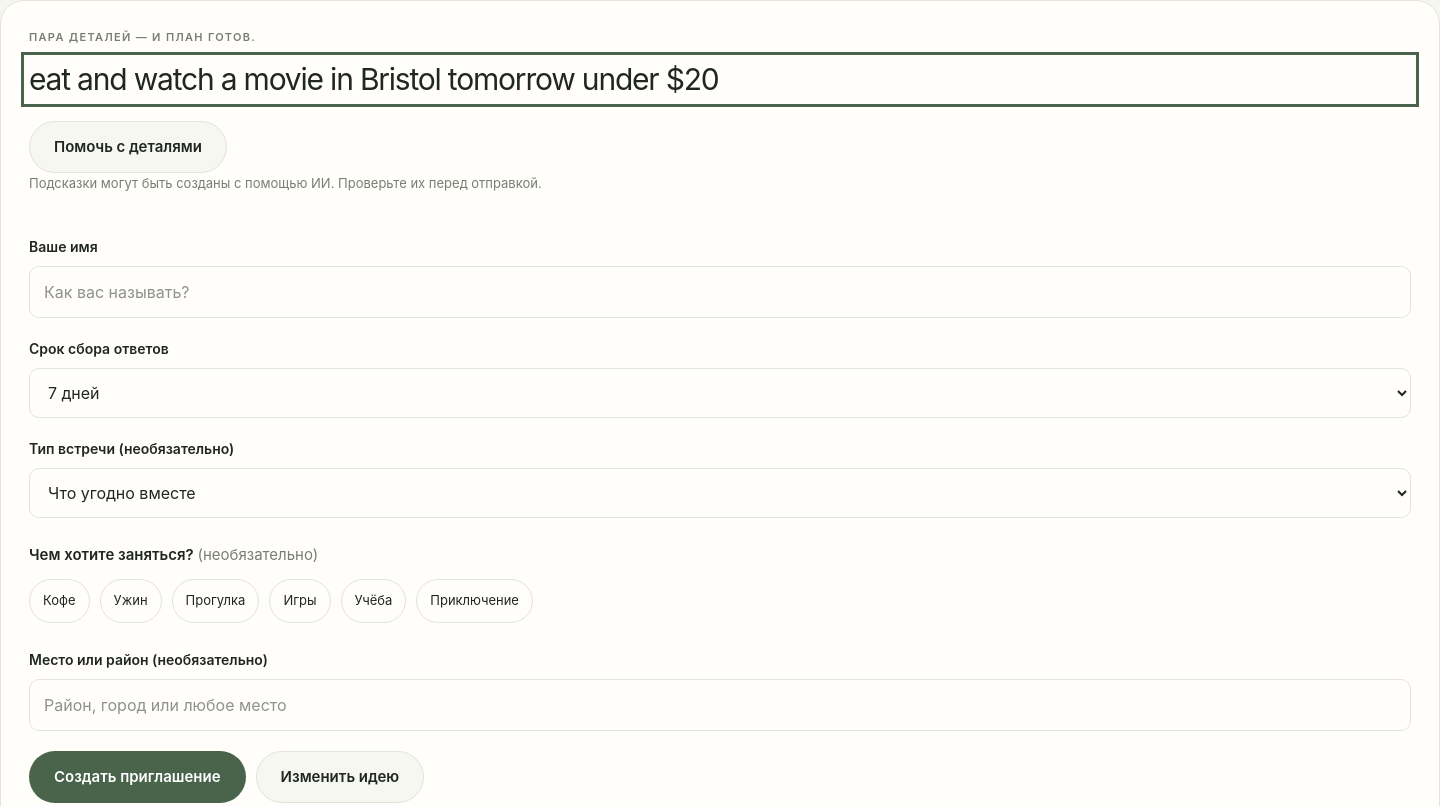
Test: optional reviewed assistance › dismisses suggestions without replacing manual choices
This screenshot has width=1440, height=806.
Click the button "Кофе" at (59, 601), box [29,579,90,623]
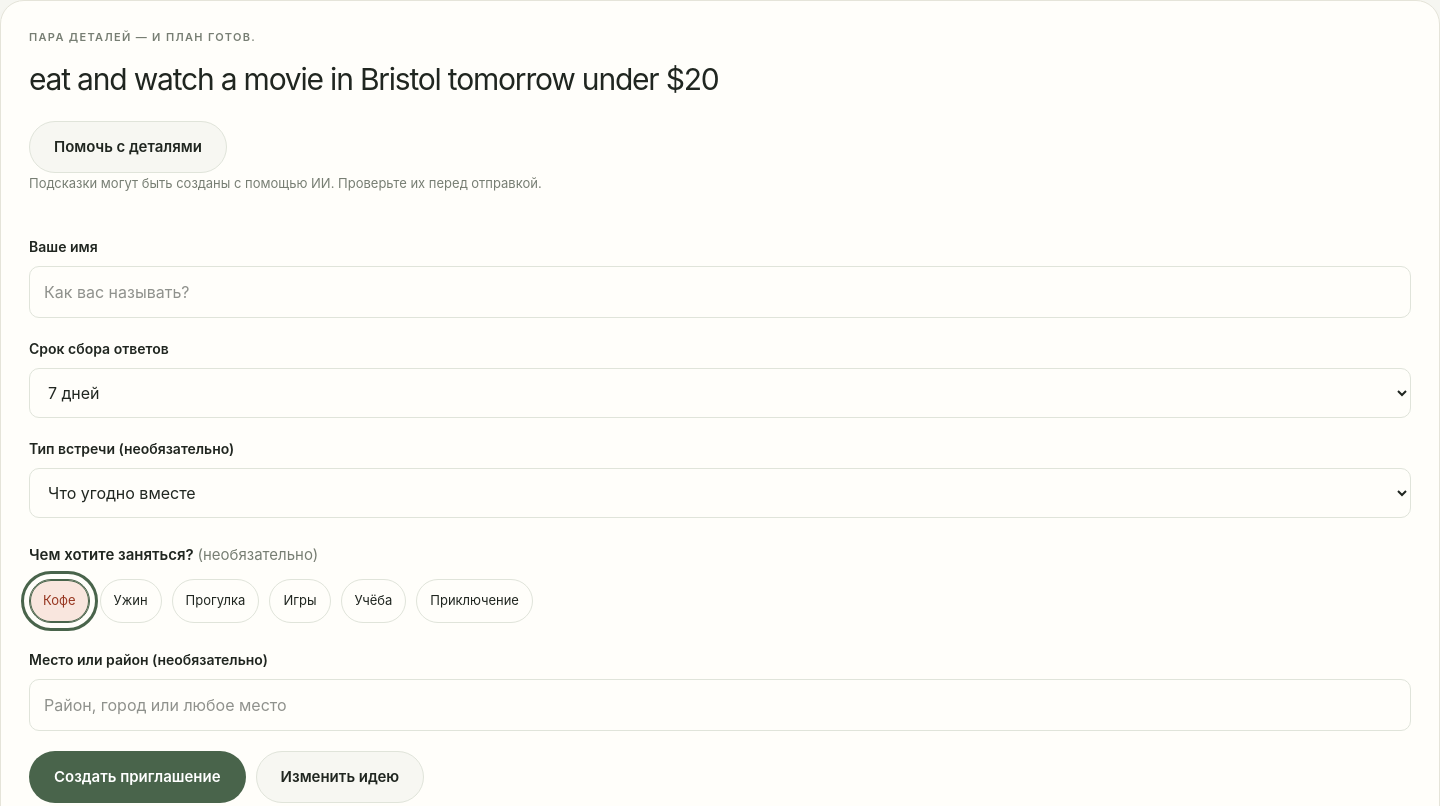
Click the button "Помочь с деталями" at (128, 147), box [29,120,227,173]
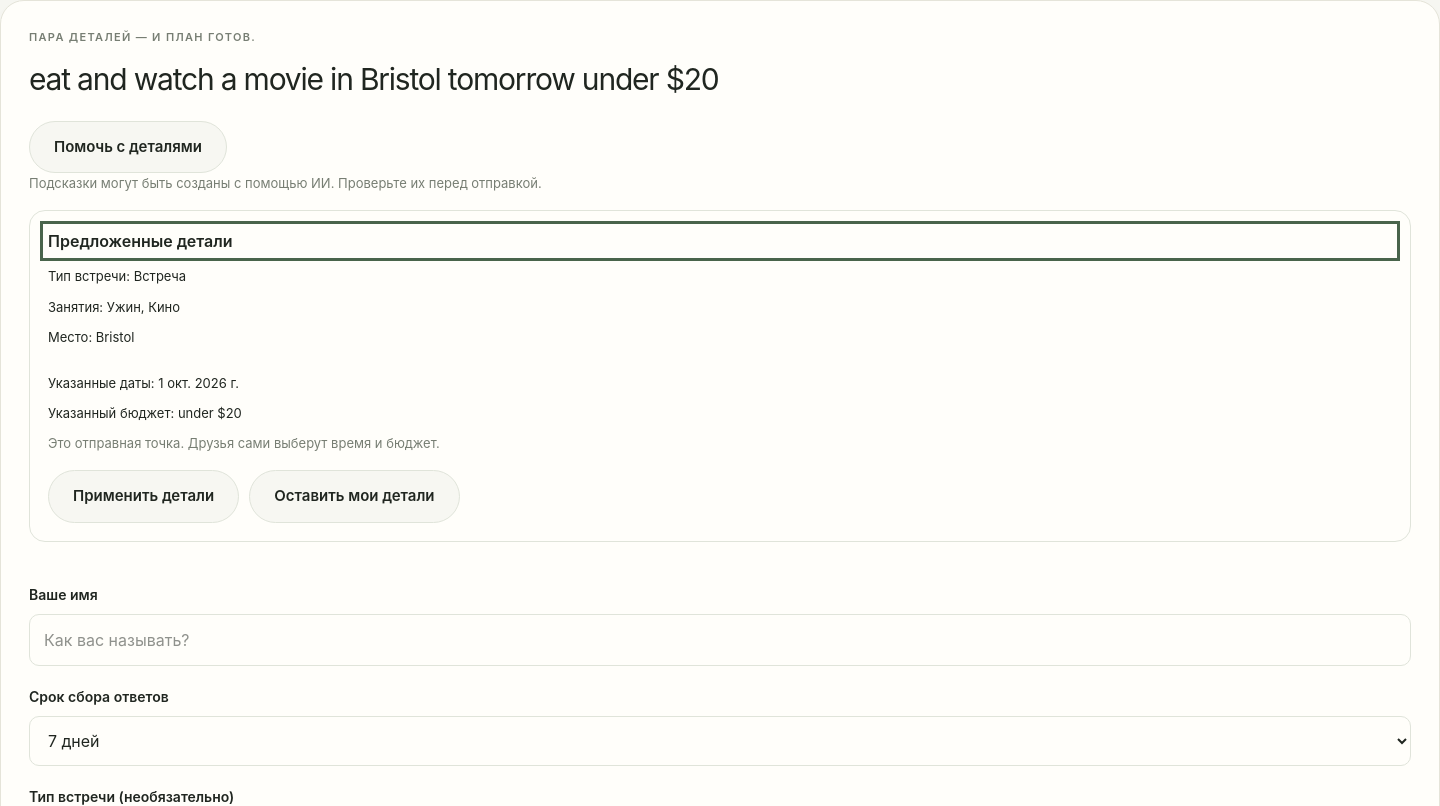
Click the button "Оставить мои детали" at (354, 496), box [249,470,460,522]
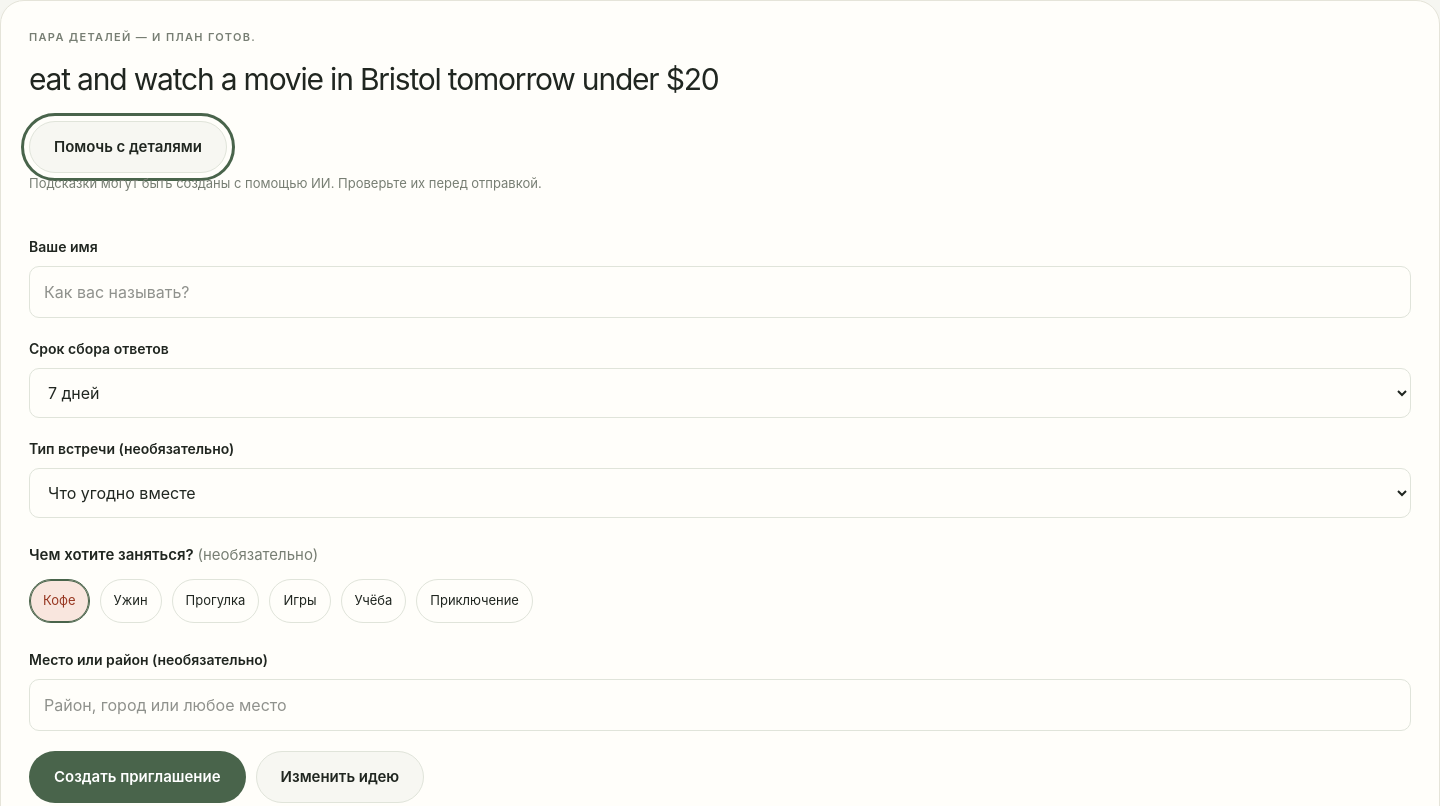
Check: the dropdown labelled "Тип встречи (необязательно)" shows "Что угодно вместе", box [29,468,1411,518]
Check: the heading "Предложенные детали" is gone
